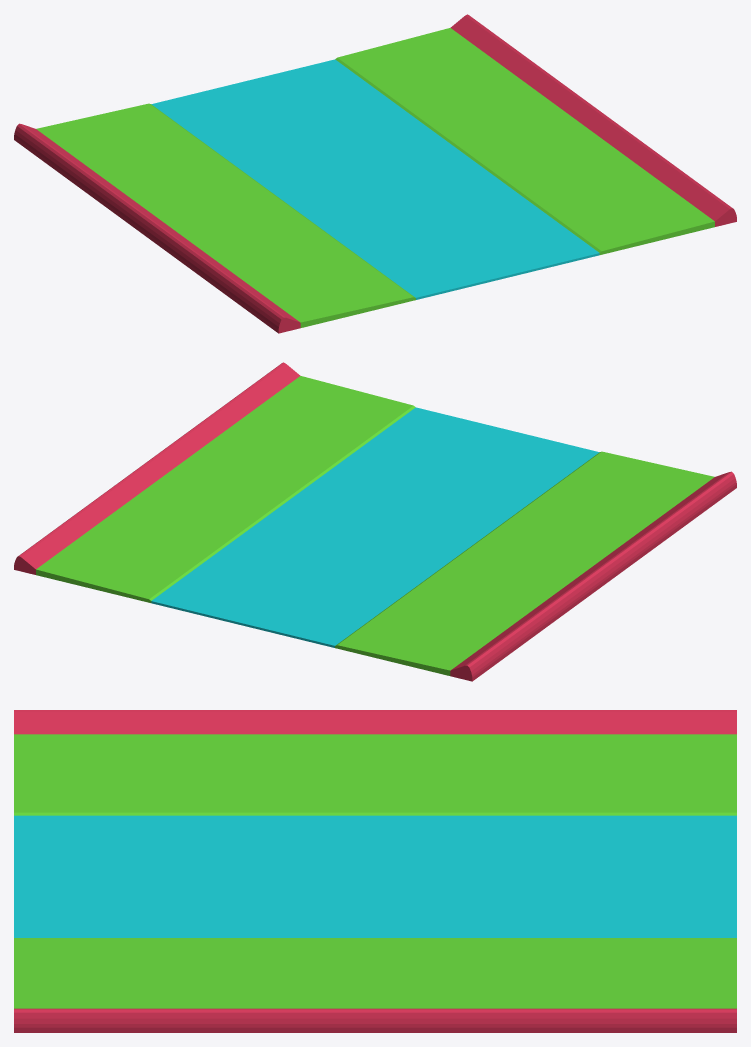
The model's file is ramp.glb.
3 views of the same model, one above another, from view 1: azimuth 30°, elevation 25°; view 2: azimuth 150°, elevation 25°; view 3: azimuth 270°, elevation 25° (orthographic). The views are drawn at different scales.
Visible parts, largest first — view 1: Ramp; view 2: Ramp; view 3: Ramp.
Boxes of the visible parts, box(x1,y1,x2,y2) form: Ramp: box(14, 14, 736, 333); Ramp: box(14, 362, 736, 681); Ramp: box(14, 710, 736, 1032).
Size of the model in its own units: 10 by 0.3117 by 10.
